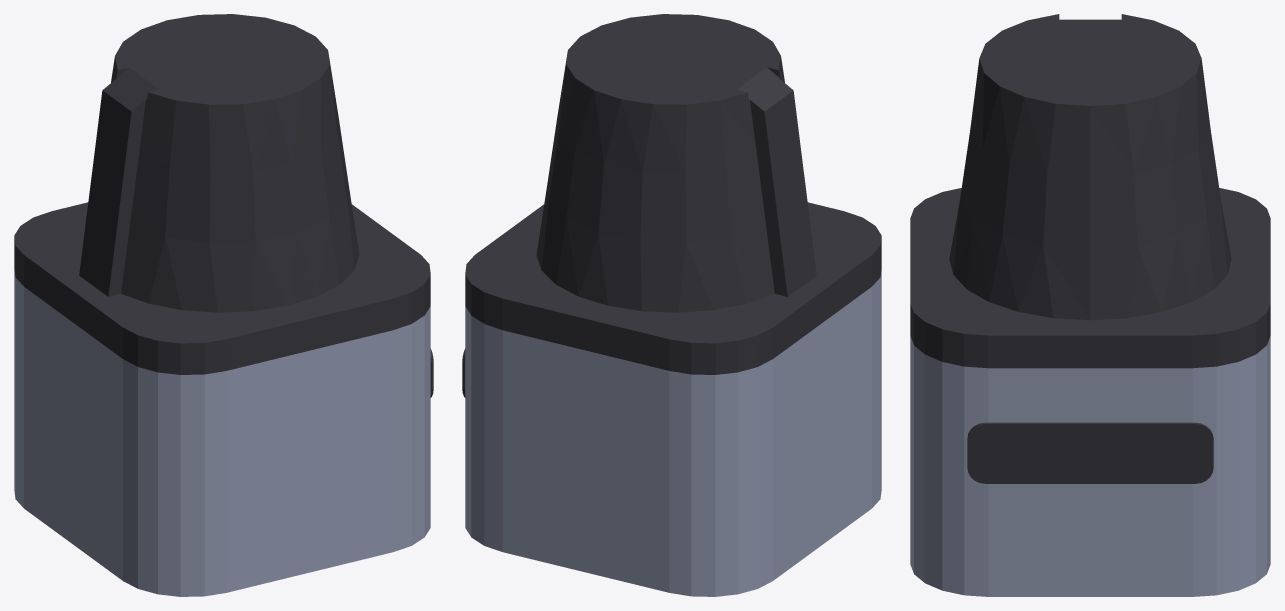
File: lpx-t1.glb
3 renders of one model, left to right at view 1: azimuth 30°, elevation 25°; view 2: azimuth 150°, elevation 25°; view 3: azimuth 270°, elevation 25°, orthographic. The views are drawn at different scales.
Parts seen in each view (by area): view 1: n_dark, n_light; view 2: n_dark, n_light; view 3: n_dark, n_light.
Part boxes in pixels (x1,y1,x2,y2): n_dark: (14, 14, 433, 397); n_light: (14, 269, 430, 596); n_dark: (462, 14, 881, 397); n_light: (465, 269, 881, 596); n_dark: (910, 14, 1270, 483); n_light: (910, 336, 1270, 596).
Bounding box in the file's own units: 0.0595 × 0.085 × 0.06.
